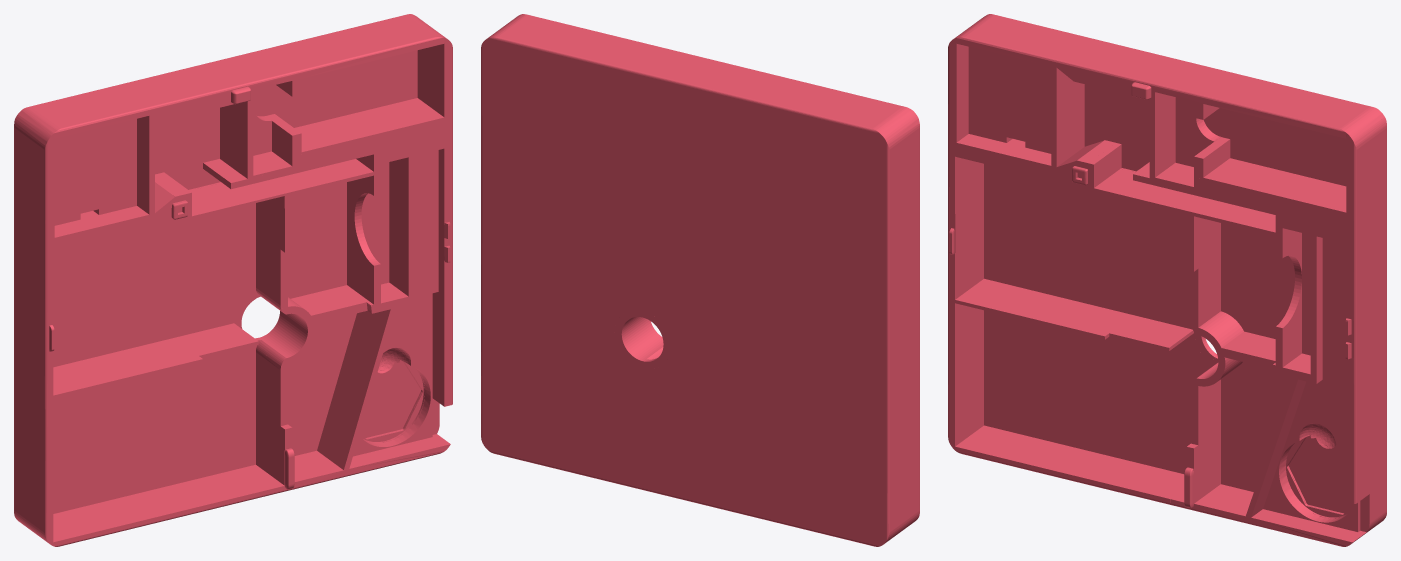
Rendered from bottom.glb.
3 renders of one model, left to right at view 1: azimuth 30°, elevation 25°; view 2: azimuth 150°, elevation 25°; view 3: azimuth 330°, elevation 25°, orthographic.
Visible parts, largest first — view 1: obj_0; view 2: obj_0; view 3: obj_0.
Part boxes in pixels (x1,y1,x2,y2): obj_0: [14, 14, 452, 546]; obj_0: [481, 14, 919, 546]; obj_0: [948, 14, 1386, 546].
Bounding box in the file's own units: 220 × 215 × 33.
